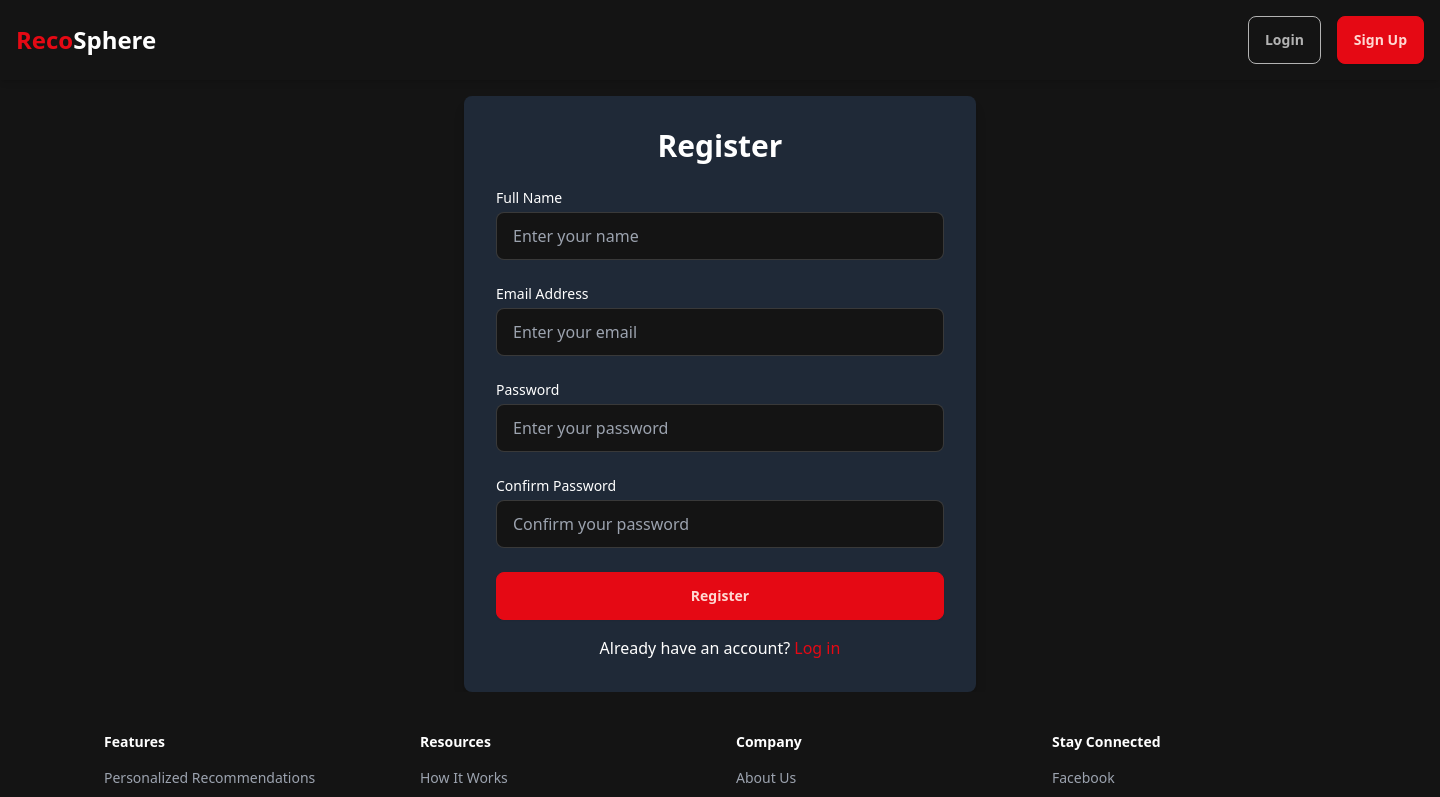
Scenario: Register Component › displays validation error for mismatched passwords
Step 1. Type "Test User" into the field labelled "Full Name" → (720, 236), box [496, 212, 944, 260]
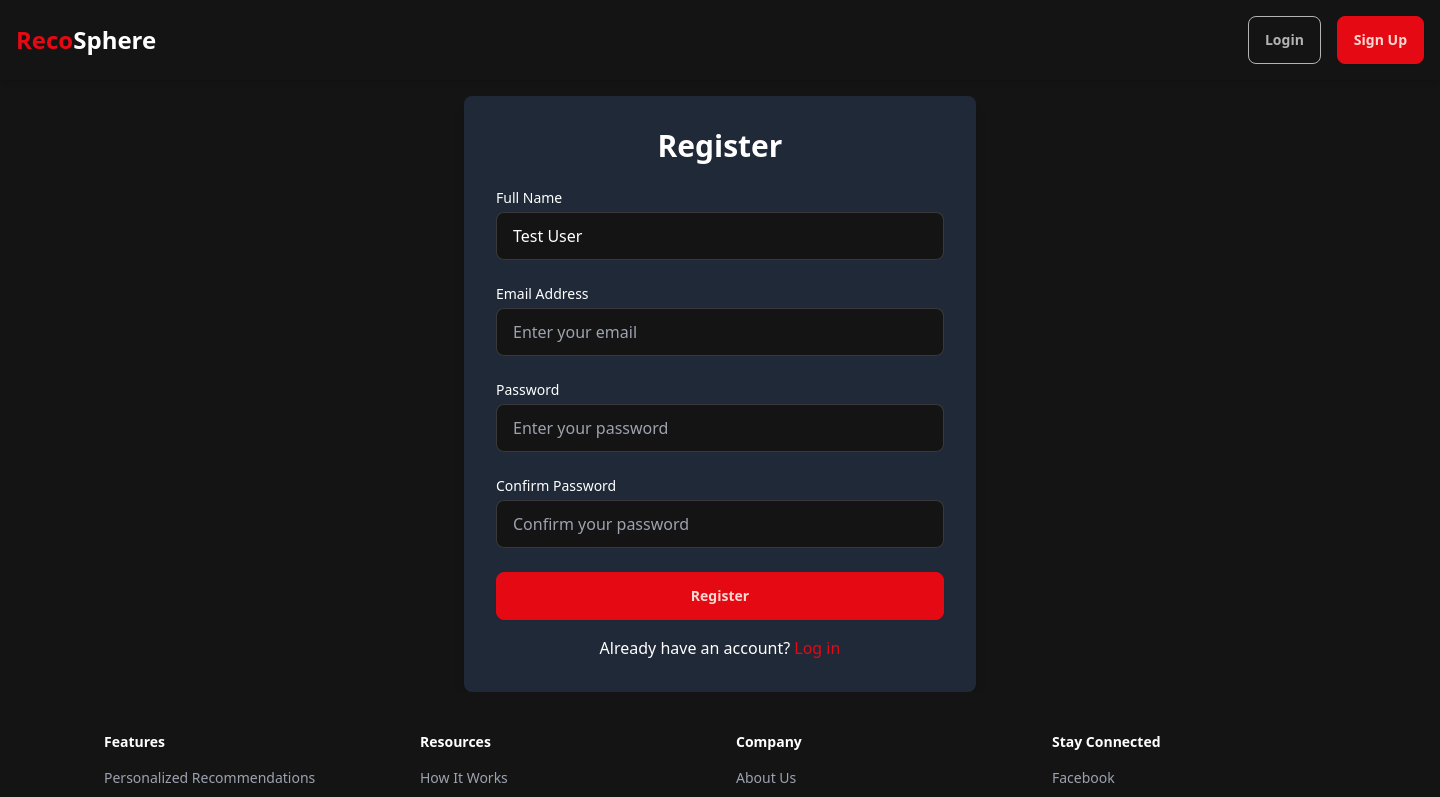
Step 2. Type "test@example.com" into the field labelled "Email Address" → (720, 332), box [496, 308, 944, 356]
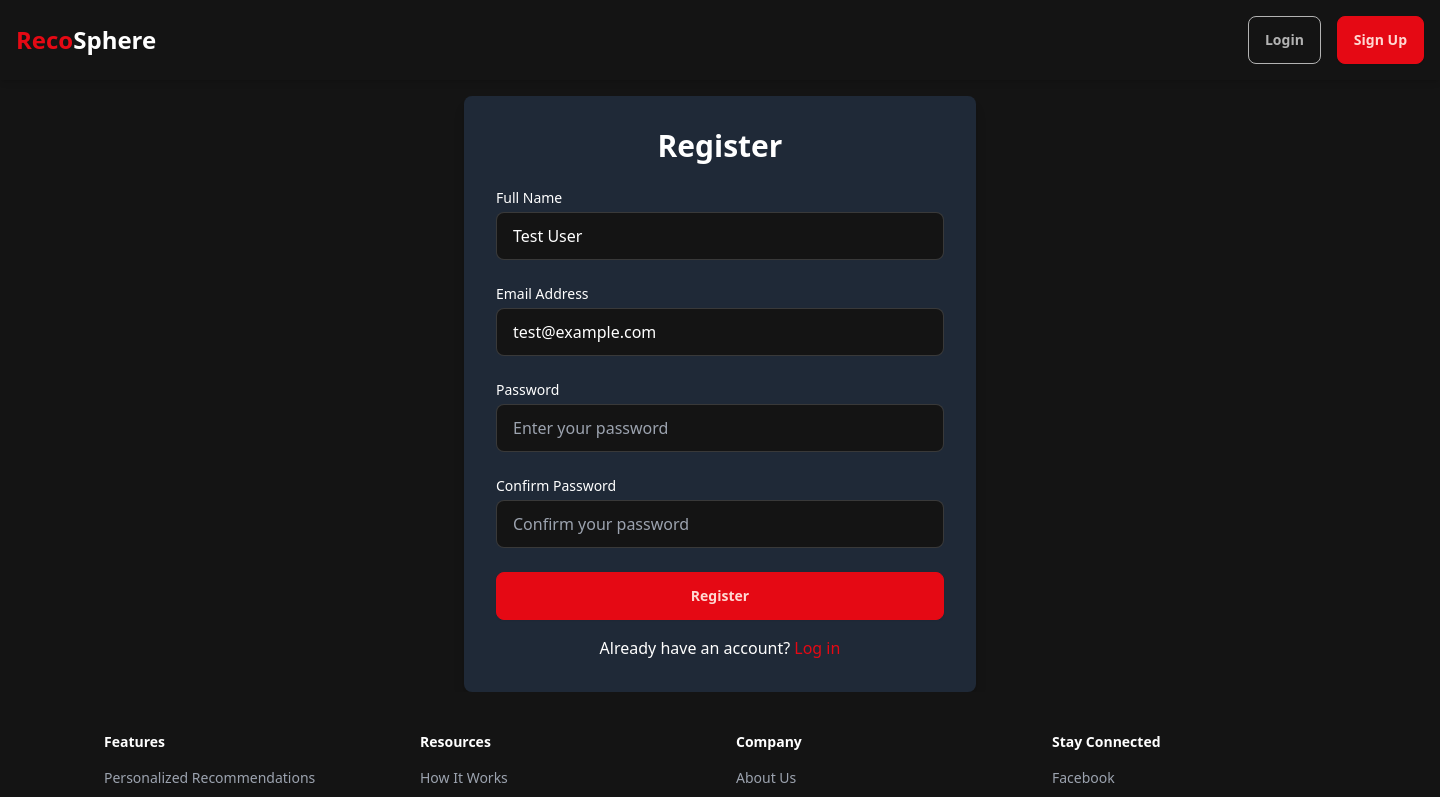
Step 3. Type "password123" into the password field labelled "Password" → (720, 428), box [496, 404, 944, 452]
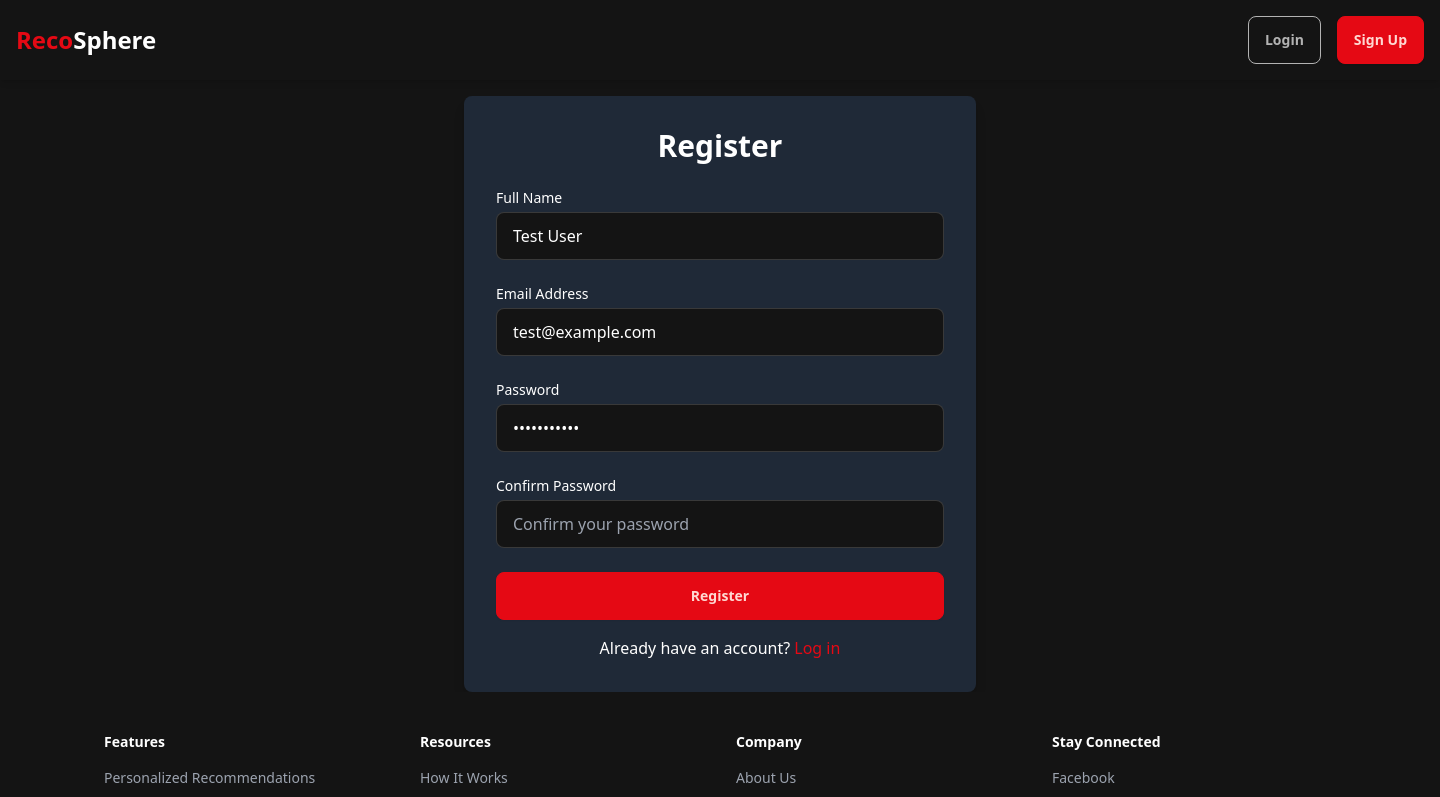
Step 4. Type "password321" into the password field labelled "Confirm Password" → (720, 524), box [496, 500, 944, 548]
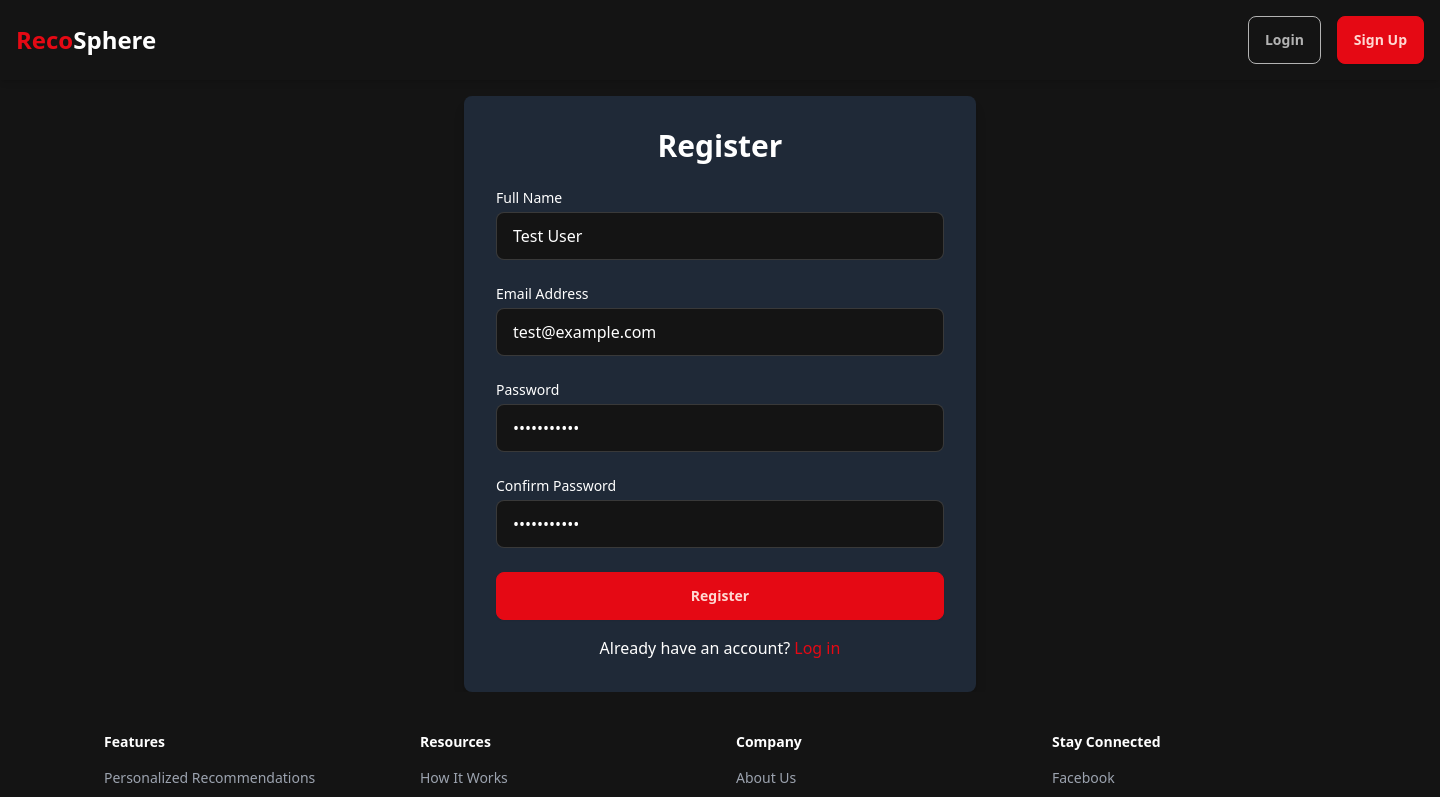
Step 5. Click the button "Register" → (720, 596), box [496, 572, 944, 620]
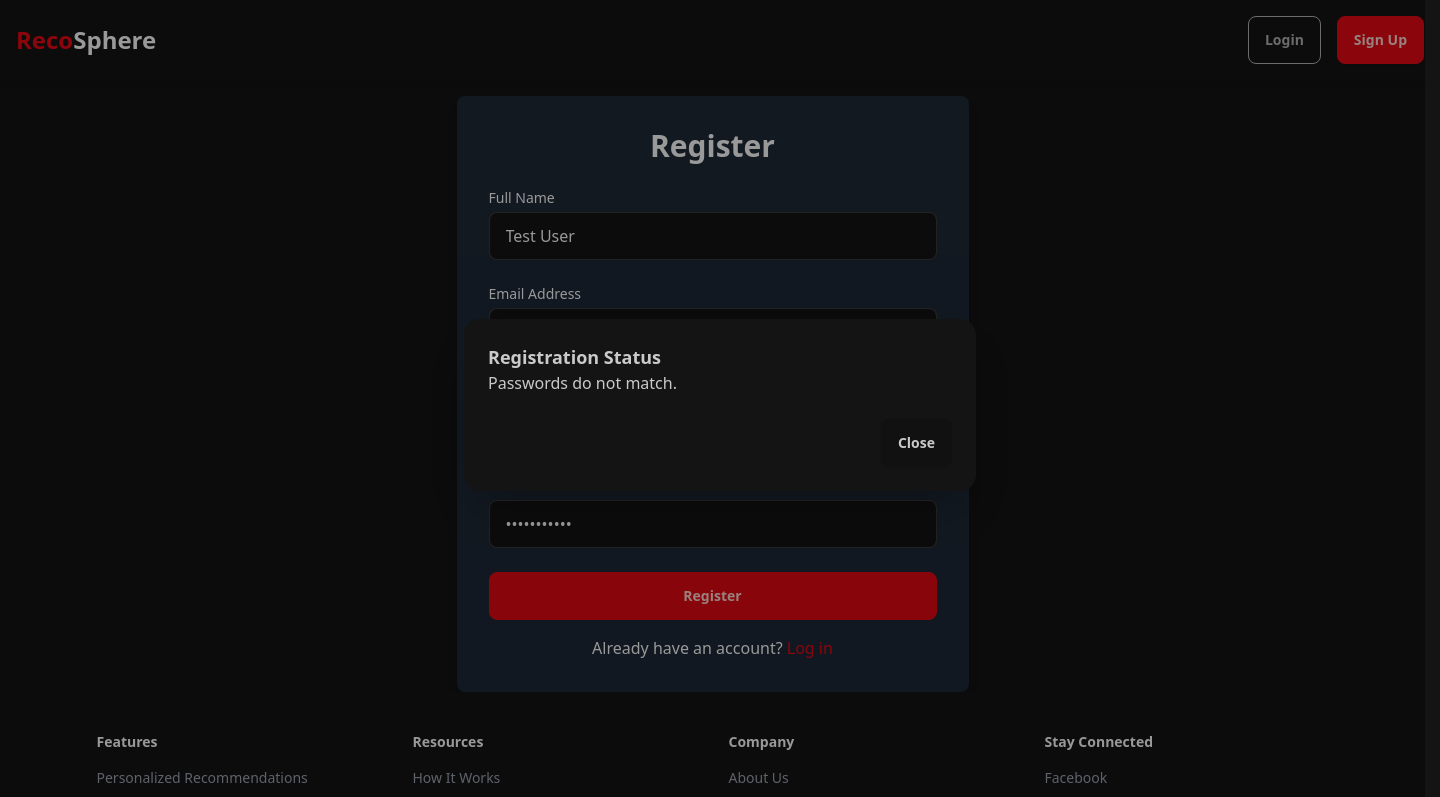
Result: the text "Passwords do not match." is shown at [488, 372, 677, 394]
